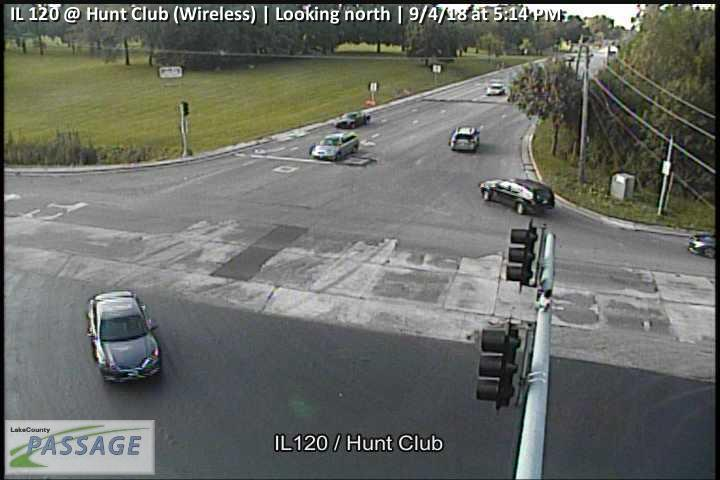SUV: (478, 176, 556, 215), (449, 126, 480, 153), (486, 82, 507, 96)
Sedan: (83, 289, 163, 386), (311, 129, 359, 162), (333, 110, 372, 132)
